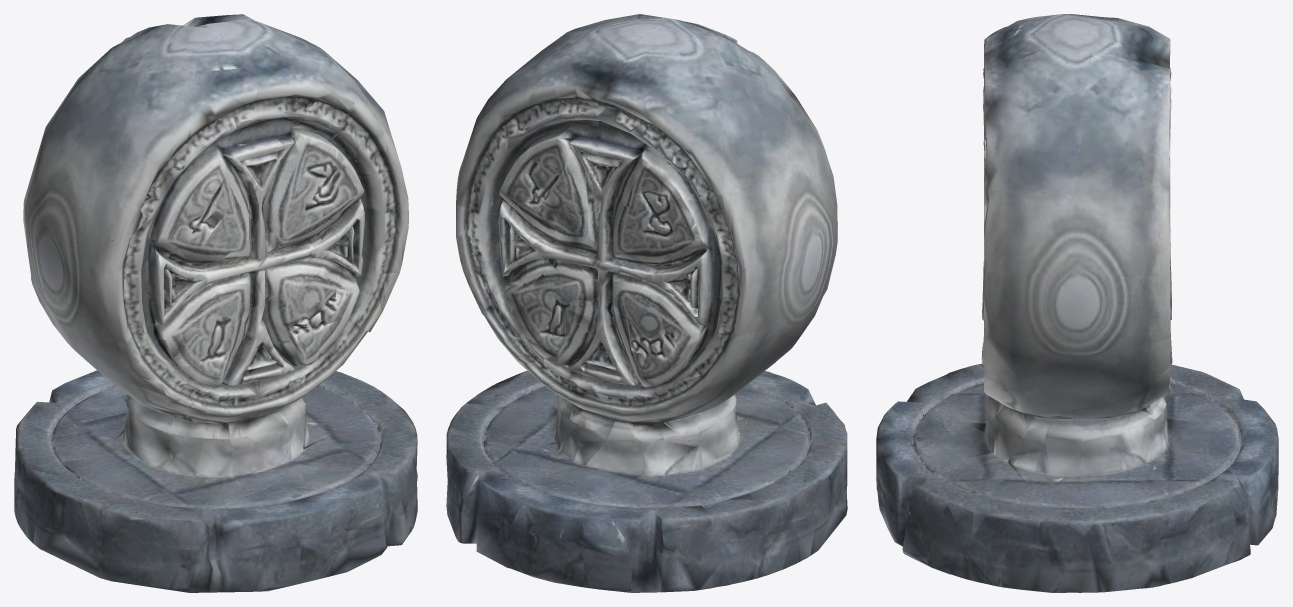
Rendered from gravecaller_sigil.glb.
3 renders of one model, left to right at view 1: azimuth 30°, elevation 25°; view 2: azimuth 150°, elevation 25°; view 3: azimuth 270°, elevation 25°, orthographic.
Bounding box in the file's own units: 1.44 × 1.9 × 1.44.
Materials: 1 (1 with a texture image).
